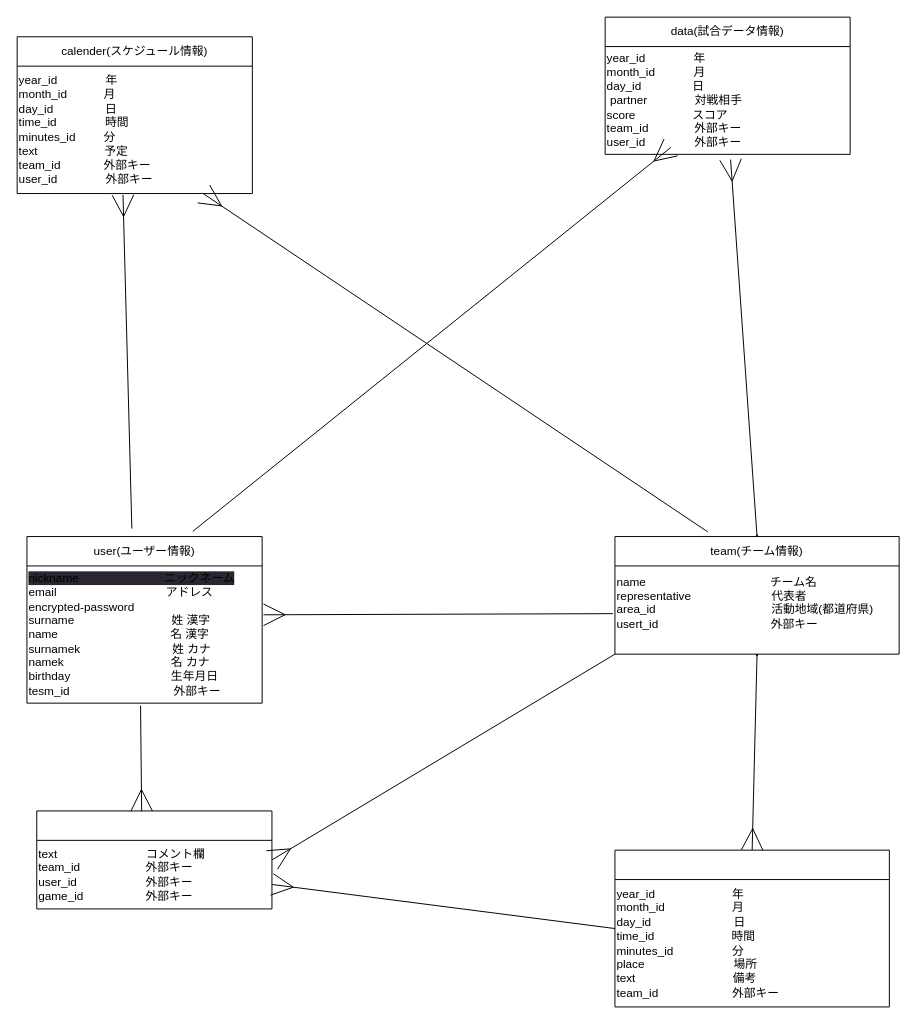
Image size: 916x1024. Some labels were removed from this diagram. Each missing label, with the box of its shape:
comment(コメント情報): (36, 810, 272, 909)
game(練習試合募集情報): (614, 849, 889, 1007)
